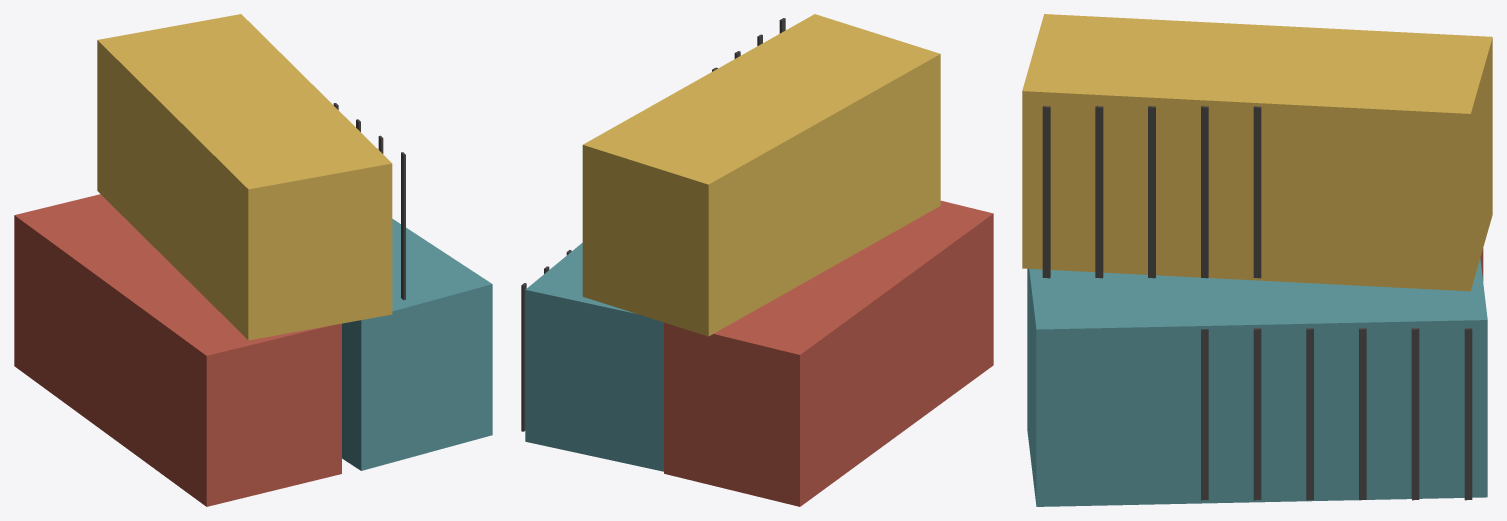
File: env_container_stack.glb
The picture shows the model from 3 angles, left to right: view 1: azimuth 30°, elevation 25°; view 2: azimuth 150°, elevation 25°; view 3: azimuth 270°, elevation 25°; orthographic projection. The views are drawn at different scales.
Visible parts, largest first — view 1: env_container_stack; view 2: env_container_stack; view 3: env_container_stack.
Boxes of the visible parts, x1,y1,x2,y2 form: env_container_stack: (14, 14, 492, 506); env_container_stack: (521, 14, 993, 506); env_container_stack: (1022, 14, 1492, 506).
Bounding box in the file's own units: 5.19 × 5.2 × 6.25.
